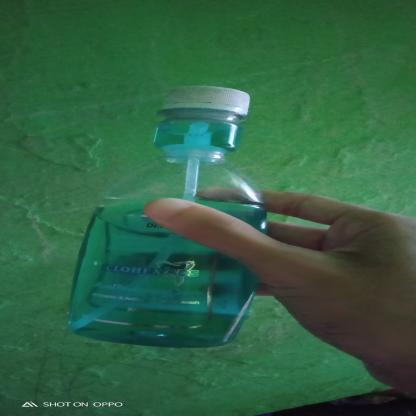bottle: (69, 84, 274, 352)
